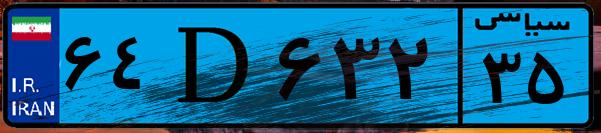2: (385, 28, 445, 110)
3: (330, 28, 385, 110), (475, 38, 525, 113)
4: (110, 28, 158, 98)
5: (525, 38, 570, 115)
6: (270, 28, 330, 110), (57, 26, 110, 100)
D: (158, 12, 270, 120)
